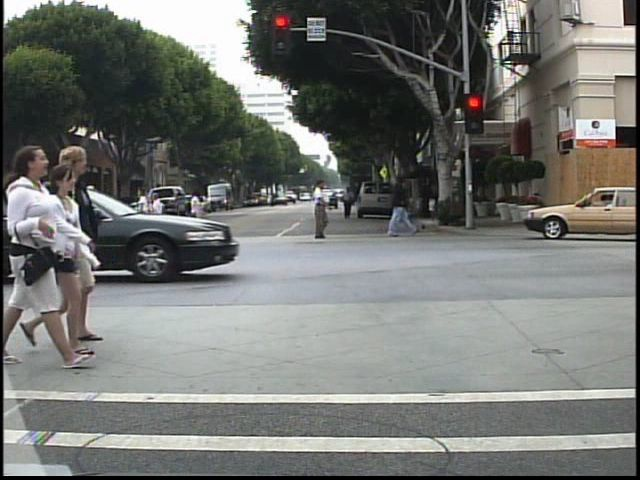person: (1, 144, 72, 375), (12, 163, 90, 364), (56, 145, 119, 349), (379, 168, 420, 241), (306, 176, 334, 241), (133, 189, 159, 251), (89, 188, 114, 246), (184, 187, 207, 247), (82, 183, 99, 247), (340, 184, 356, 220)
